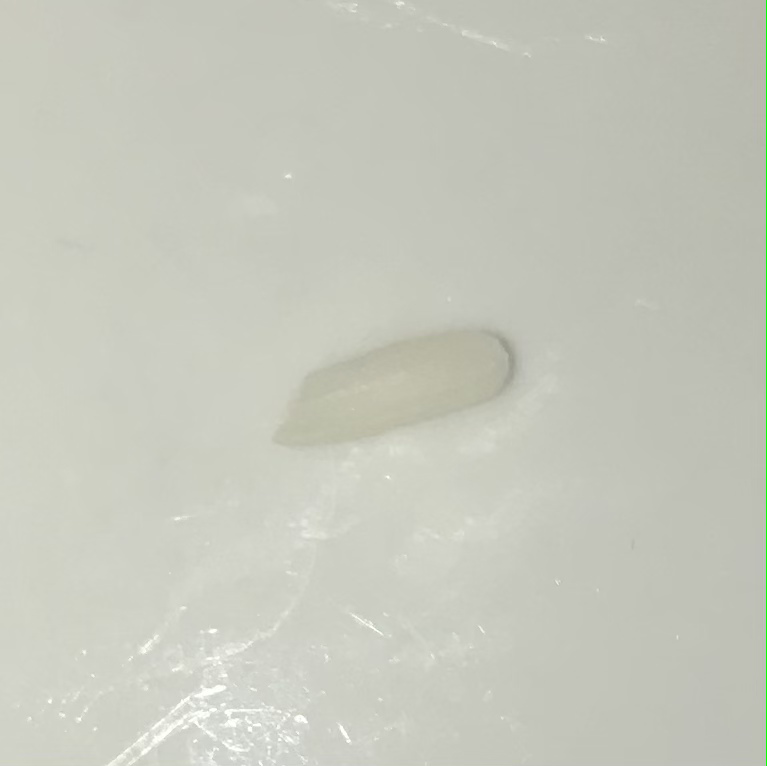Gao Thom Go Cong: (261, 299, 534, 462)
